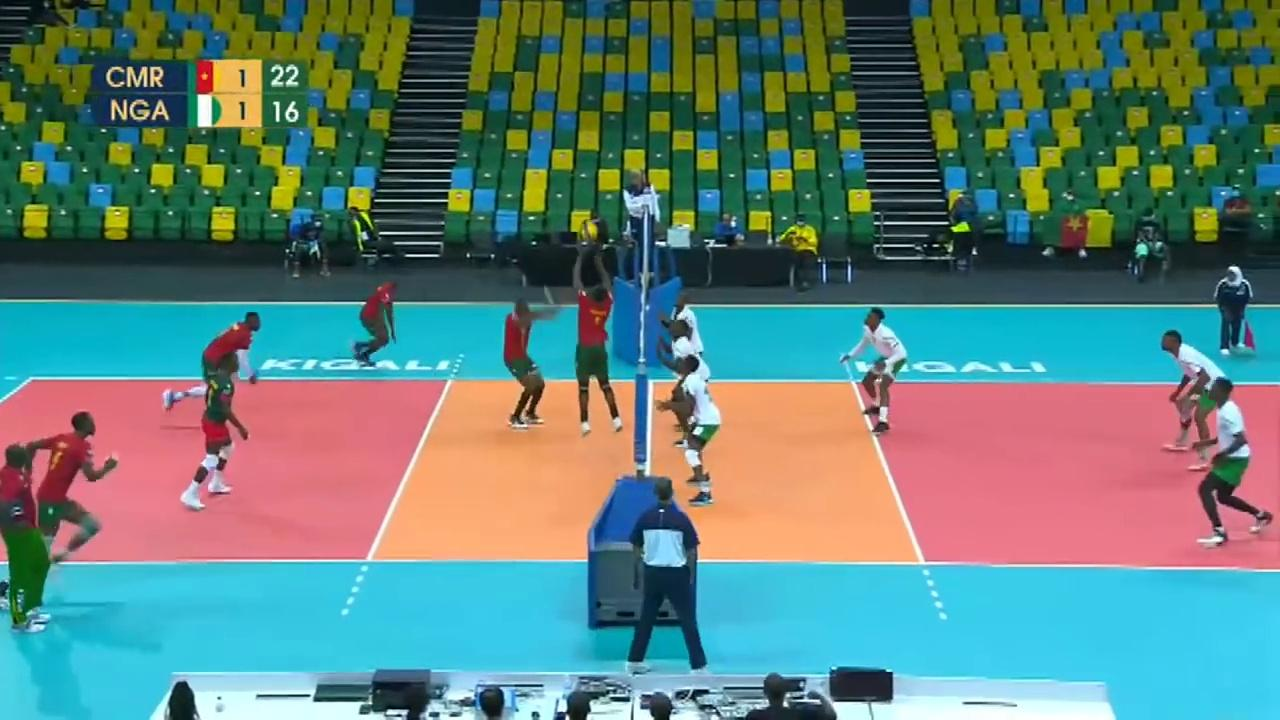player: (8, 410, 119, 584), (1180, 379, 1275, 545), (565, 241, 624, 437), (187, 352, 254, 514), (166, 313, 266, 414), (1160, 329, 1228, 470), (835, 304, 907, 431), (500, 281, 553, 432), (676, 358, 722, 506), (665, 296, 708, 441), (667, 322, 713, 453), (352, 275, 402, 366)
refree: (623, 478, 710, 676), (620, 166, 661, 269), (1216, 264, 1256, 356)
